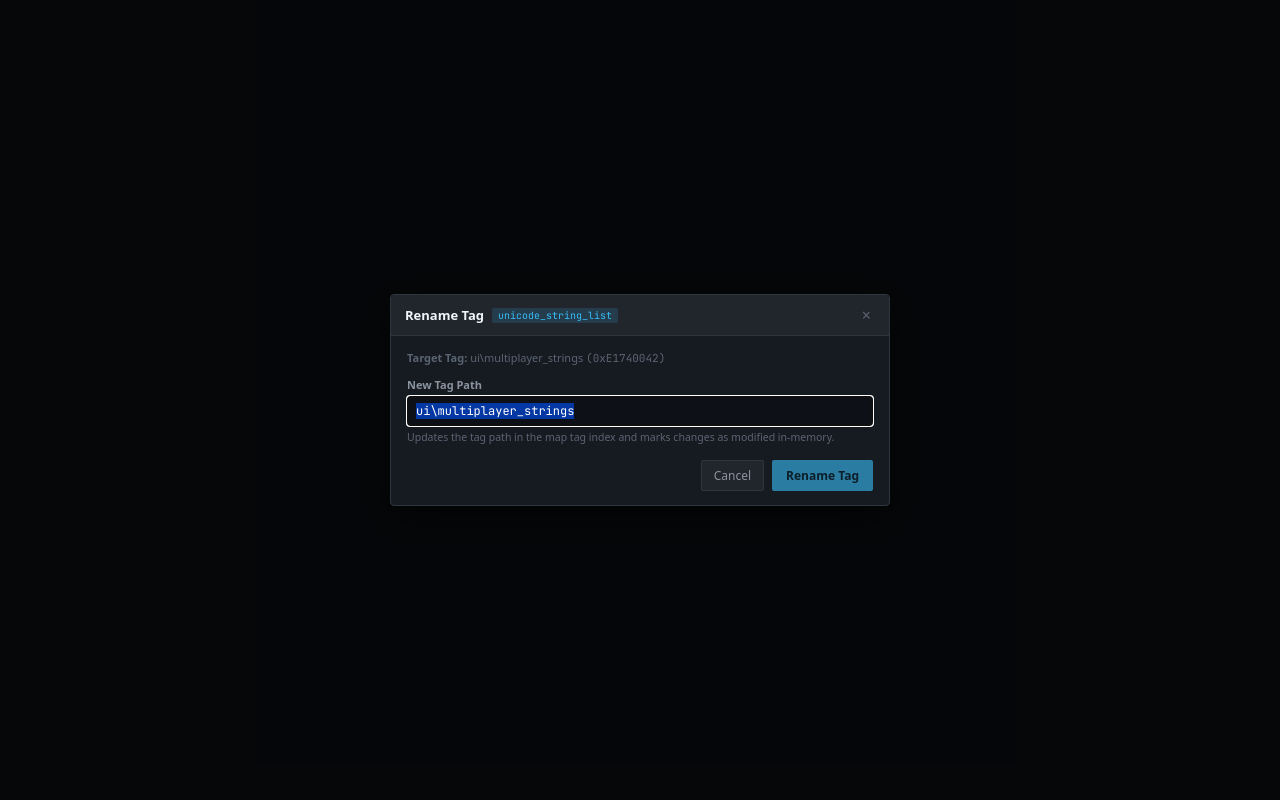
Test: Milestone 9 Desktop Components › TagActionDialog › displays error if rename fails
Replace the text in the field with test id "rename-tag-input" with "ui\\already_exists" at point(640, 411), box x1=407 y1=396 x2=873 y2=426
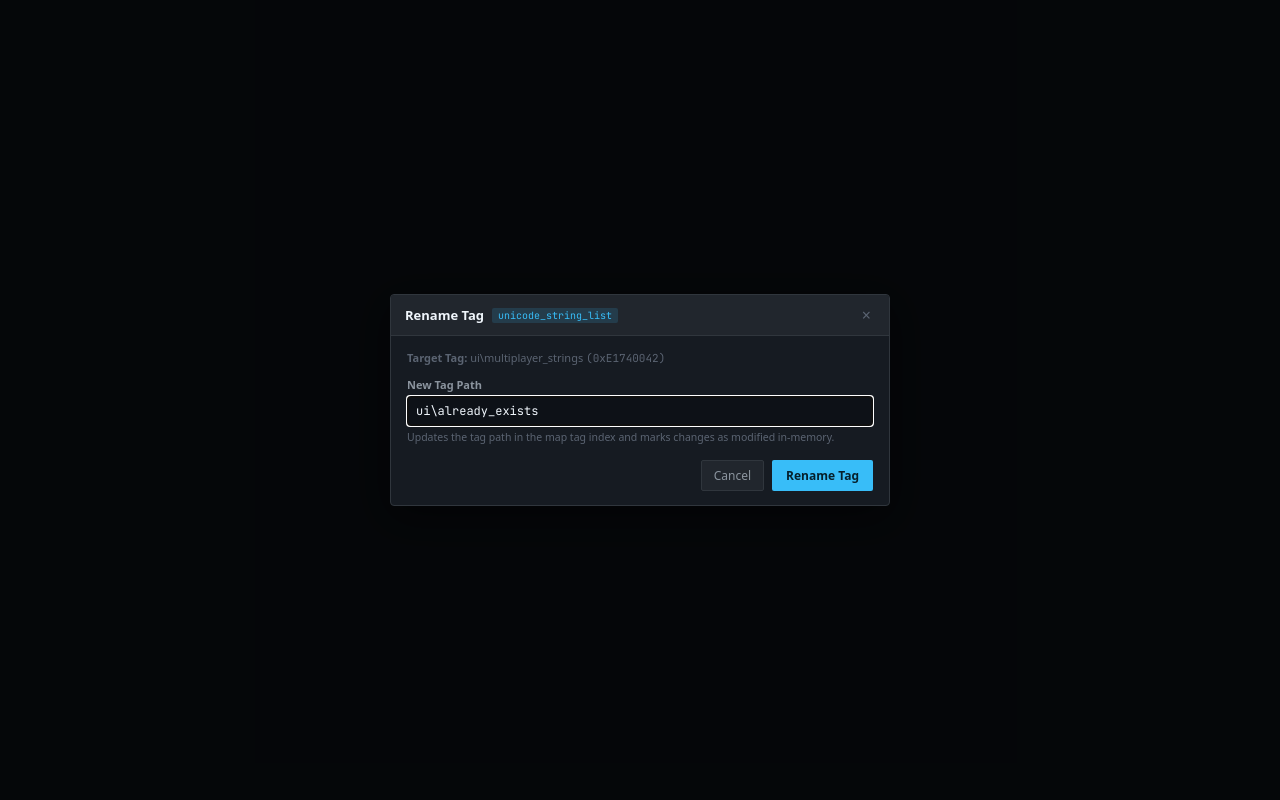
Click the button with test id "rename-tag-submit" at point(822, 476), box x1=772 y1=460 x2=873 y2=491
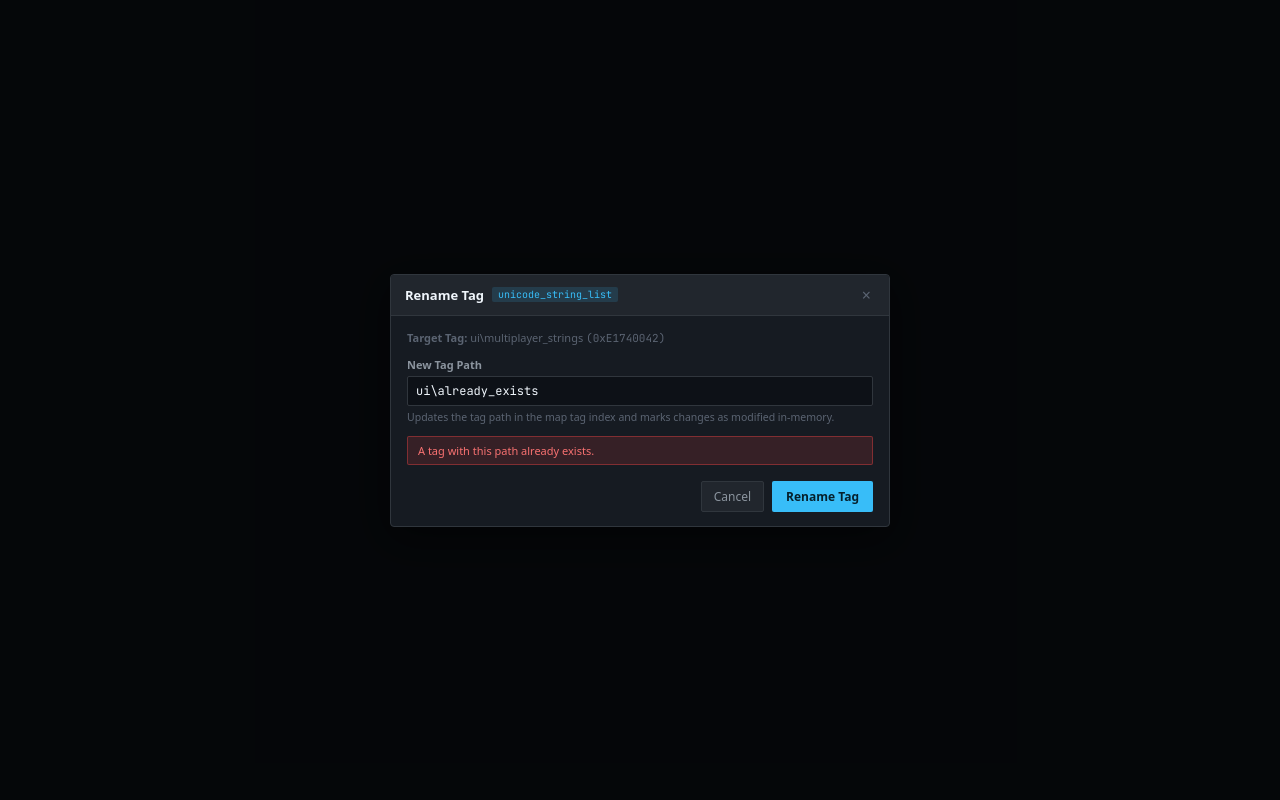
Check: the text with test id "rename-tag-error" reads "A tag with this path already exists.", box x1=418 y1=442 x2=594 y2=458
